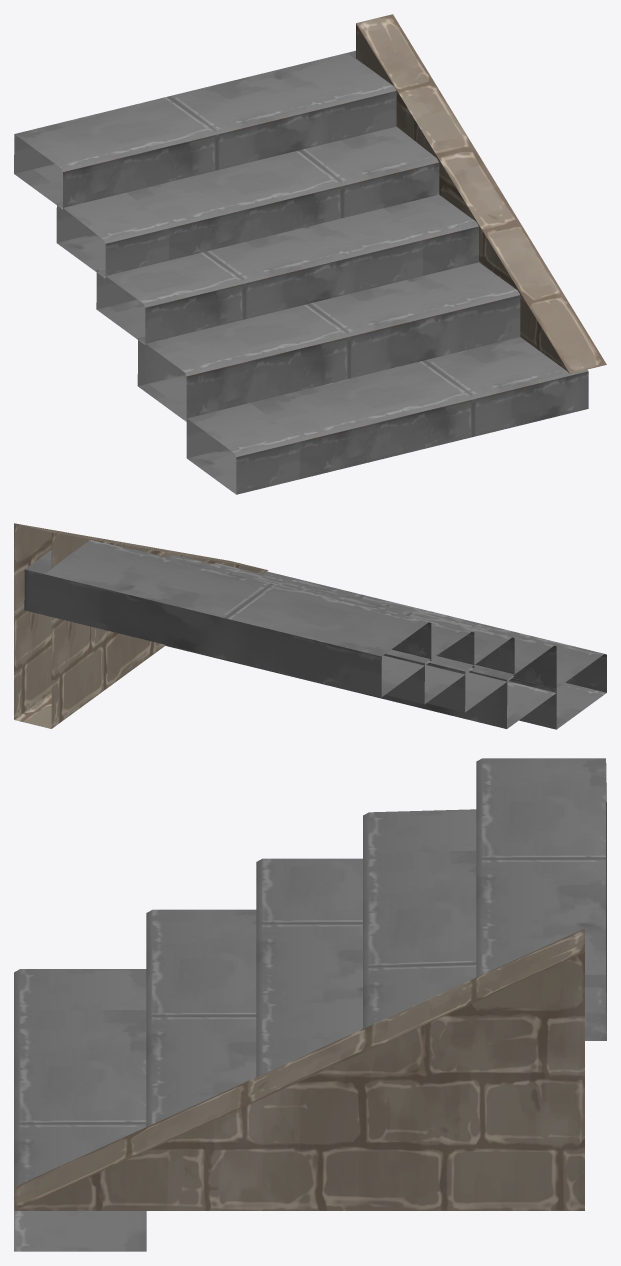
The model's file is Stairs_Exterior_Straight_R.gltf.
3 views of the same model, one above another, from view 1: azimuth 30°, elevation 25°; view 2: azimuth 150°, elevation 25°; view 3: azimuth 270°, elevation 25° (orthographic). The views are drawn at different scales.
Parts seen in each view (by area): view 1: Stairs_Exterior_Straight_R; view 2: Stairs_Exterior_Straight_R; view 3: Stairs_Exterior_Straight_R.
Boxes of the visible parts, bbox=[...] form: Stairs_Exterior_Straight_R: bbox=[14, 14, 606, 494]; Stairs_Exterior_Straight_R: bbox=[14, 523, 606, 729]; Stairs_Exterior_Straight_R: bbox=[14, 758, 606, 1251].
Bounding box in the file's own units: 2 × 1.2 × 2.08.
2 materials, 2 textured.
